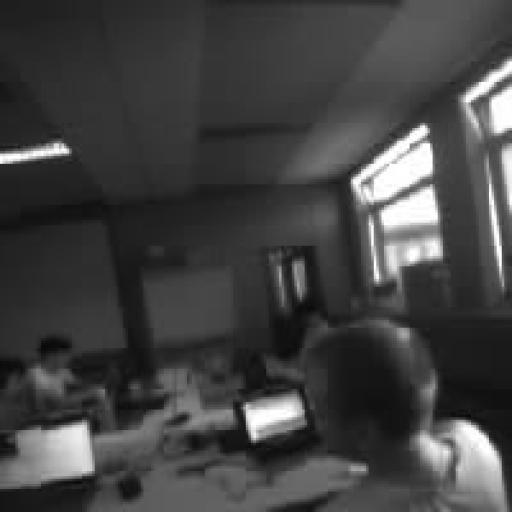human: (305, 320, 506, 511), (29, 336, 115, 430), (267, 303, 330, 383), (0, 359, 35, 432)
